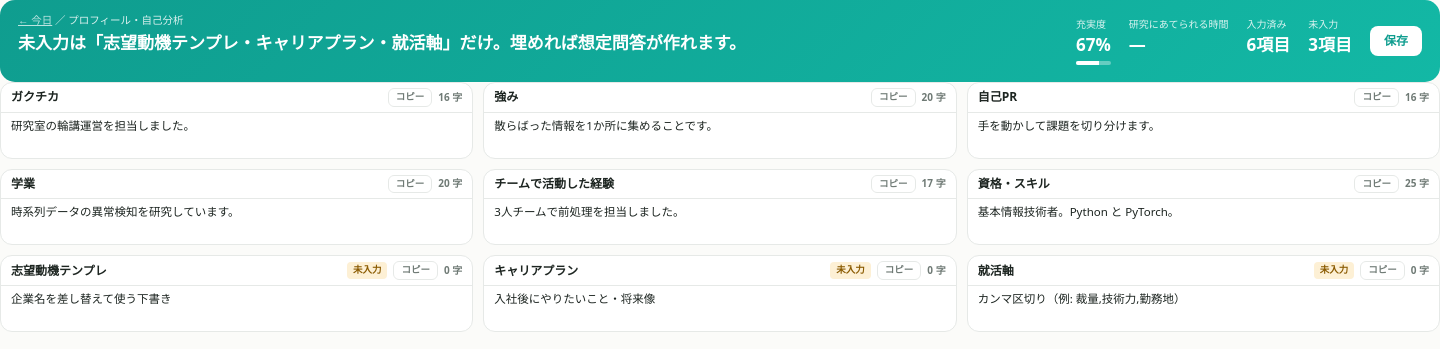
Test: 充実度の算出 › 入力すると充実度が即座に上がる
Check: the text box showing "研究室の輪講運営を担当しました。" is shown, box [11, 118, 462, 151]
Type "裁量" into the text box named "就活軸" at (1203, 307), box [978, 291, 1429, 324]
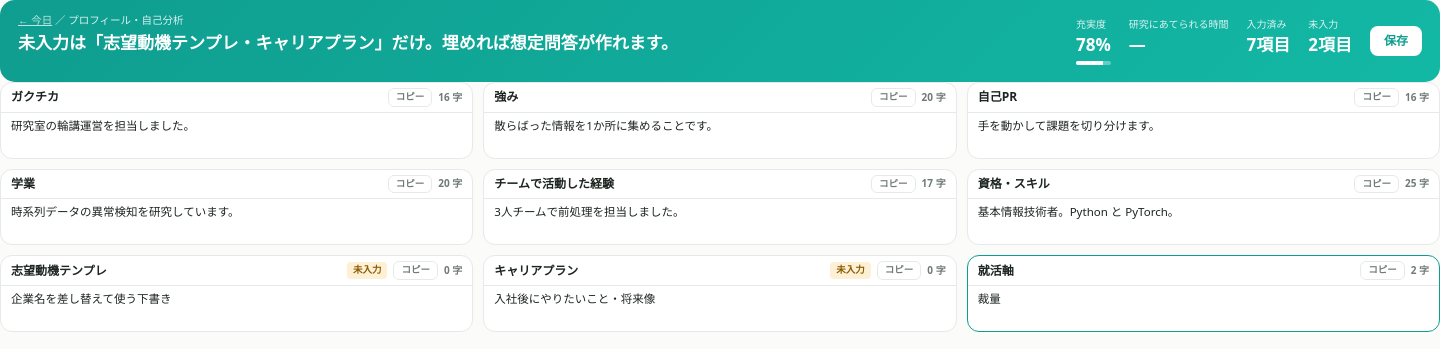
Check: the text "78%" is shown, box [1076, 33, 1111, 56]
